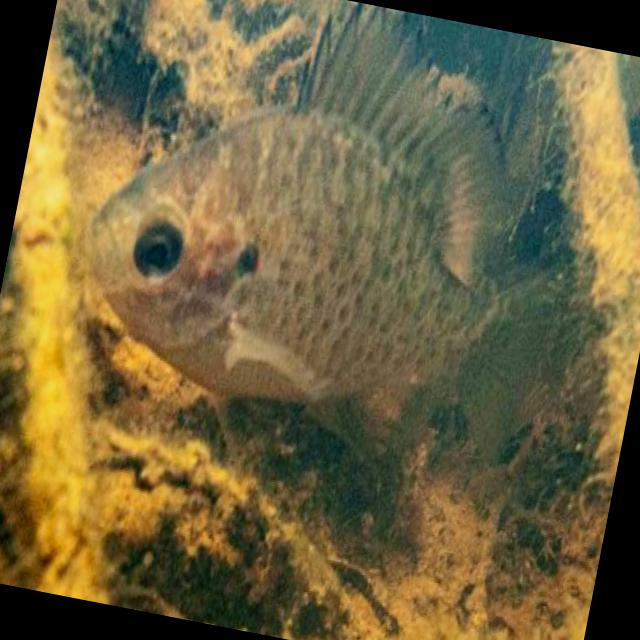Gunes Levregi: (46, 0, 626, 527)
